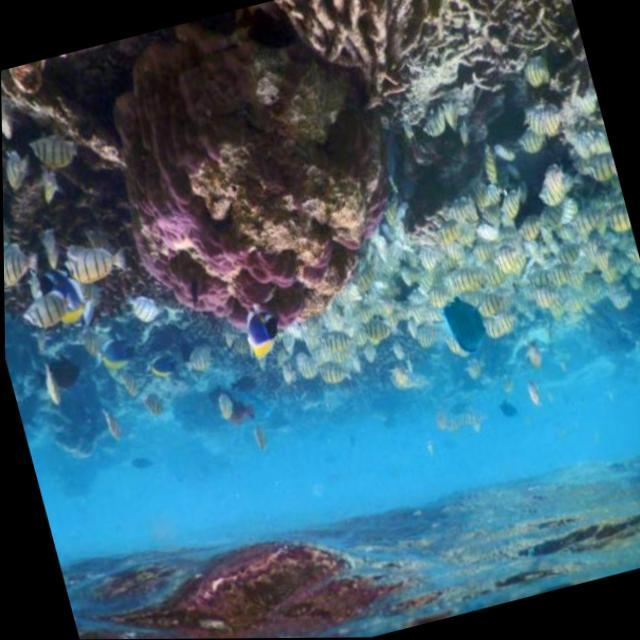Dead Coral: (80, 0, 413, 335), (414, 0, 595, 130), (277, 0, 425, 138)
